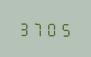five: (57, 20, 69, 37)
seven: (31, 19, 43, 36)
three: (18, 19, 30, 36)
zero: (44, 19, 56, 37)
